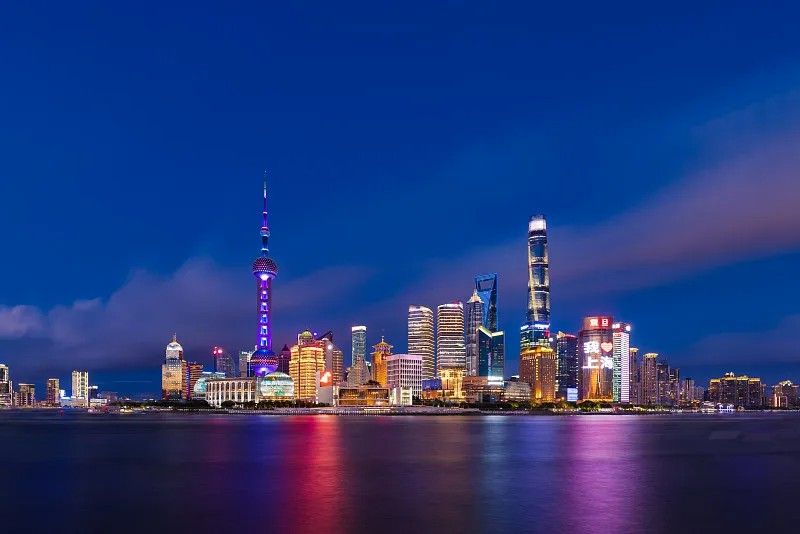Oriental: (251, 168, 277, 375)
